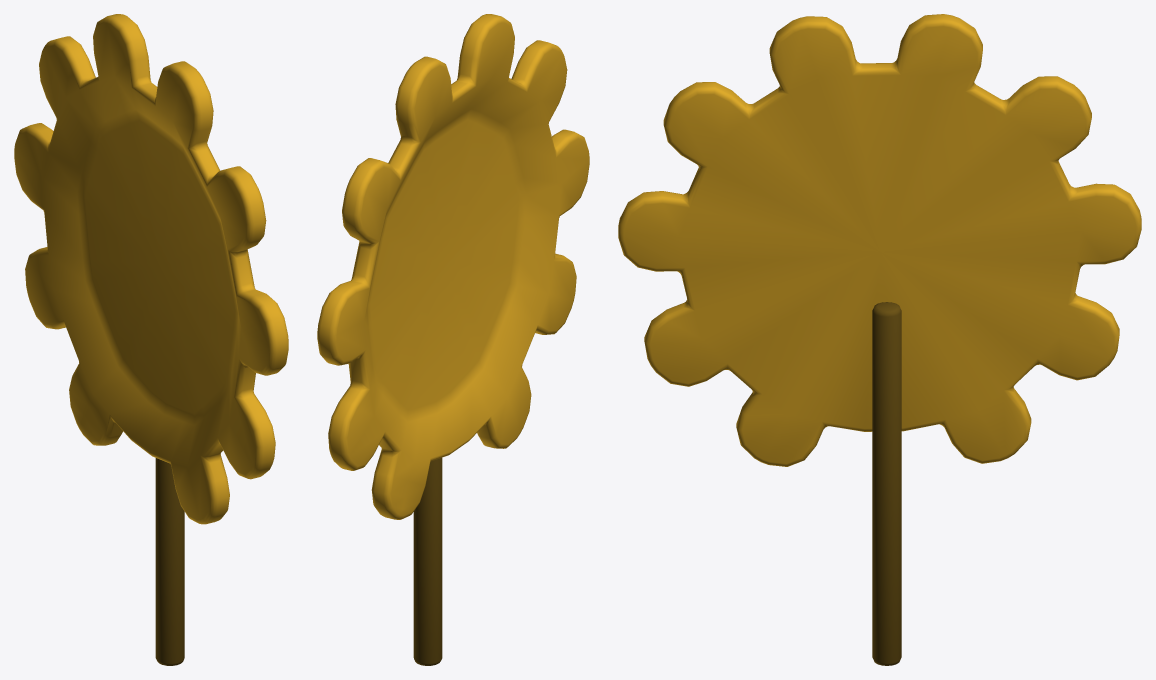
File: FM_H_Doll_BH_Flower_Stand_001.fbx
The picture shows the model from 3 angles, left to right: view 1: azimuth 30°, elevation 25°; view 2: azimuth 150°, elevation 25°; view 3: azimuth 270°, elevation 25°; orthographic projection.
Parts seen in each view (by area): view 1: H_Doll_BH_Flower_Stand_001; view 2: H_Doll_BH_Flower_Stand_001; view 3: H_Doll_BH_Flower_Stand_001.
Boxes of the visible parts, x1,y1,x2,y2 form: H_Doll_BH_Flower_Stand_001: (14, 14, 288, 665); H_Doll_BH_Flower_Stand_001: (317, 14, 589, 665); H_Doll_BH_Flower_Stand_001: (618, 14, 1141, 665).
Bounding box in the file's own units: 0.2561 × 3.47 × 2.6.
